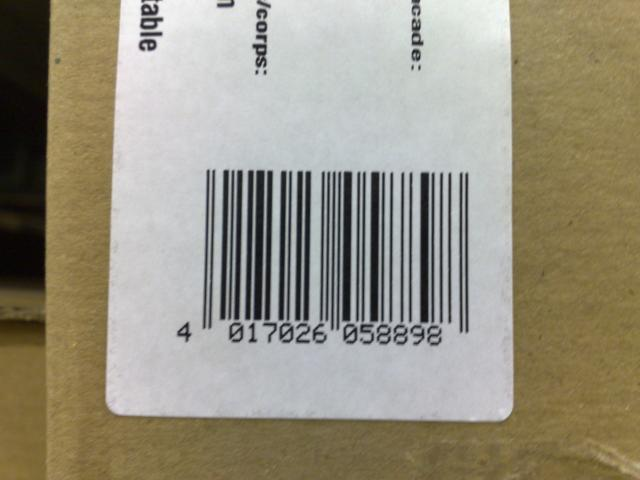Barcode: (171, 155, 482, 359)
